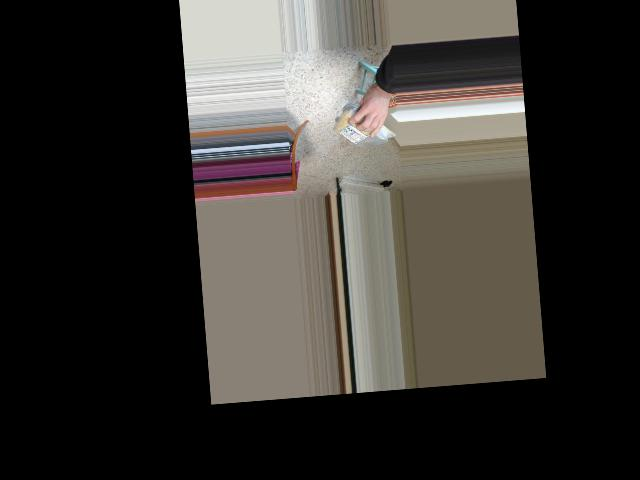cheese: (325, 111, 396, 146)
